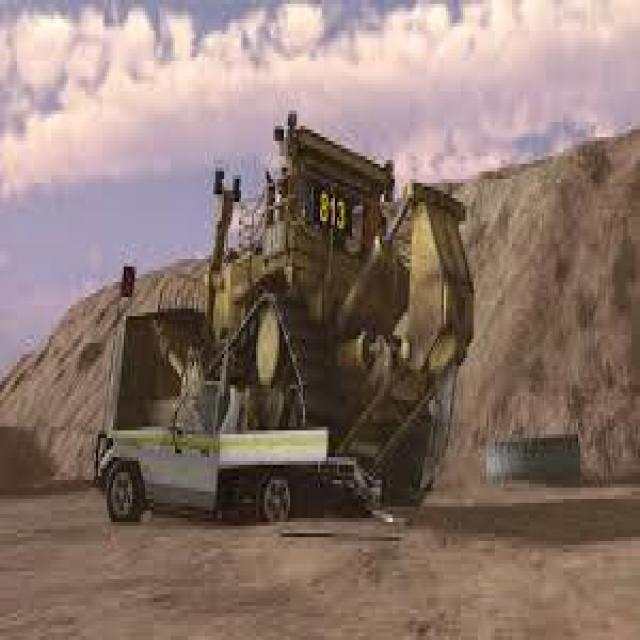buldozerpayloadergrader: (164, 103, 508, 533)
